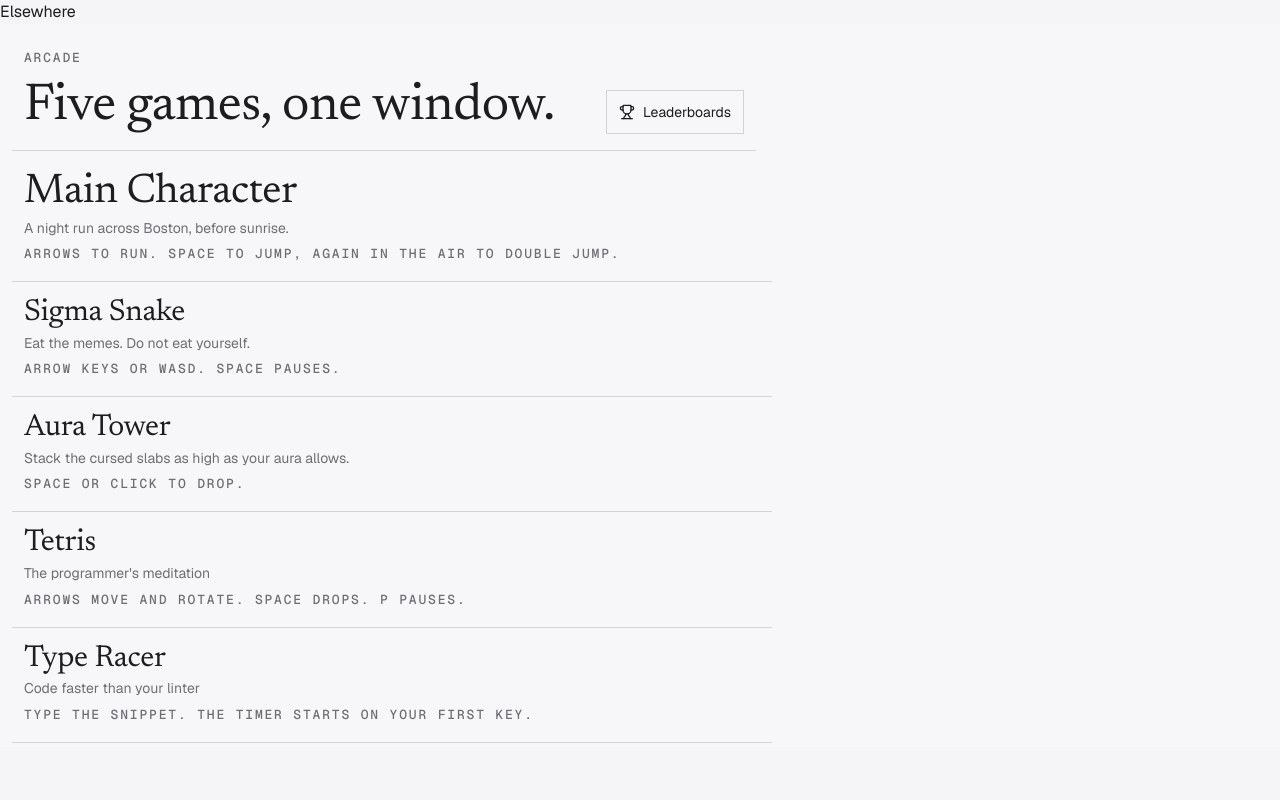
Test: Aura Tower: start screen › shows the keyboard hint on desktop
The width and height of the screenshot is (1280, 800).
Click the text "Aura Tower".
click(97, 428)  # box x1=24 y1=413 x2=170 y2=443
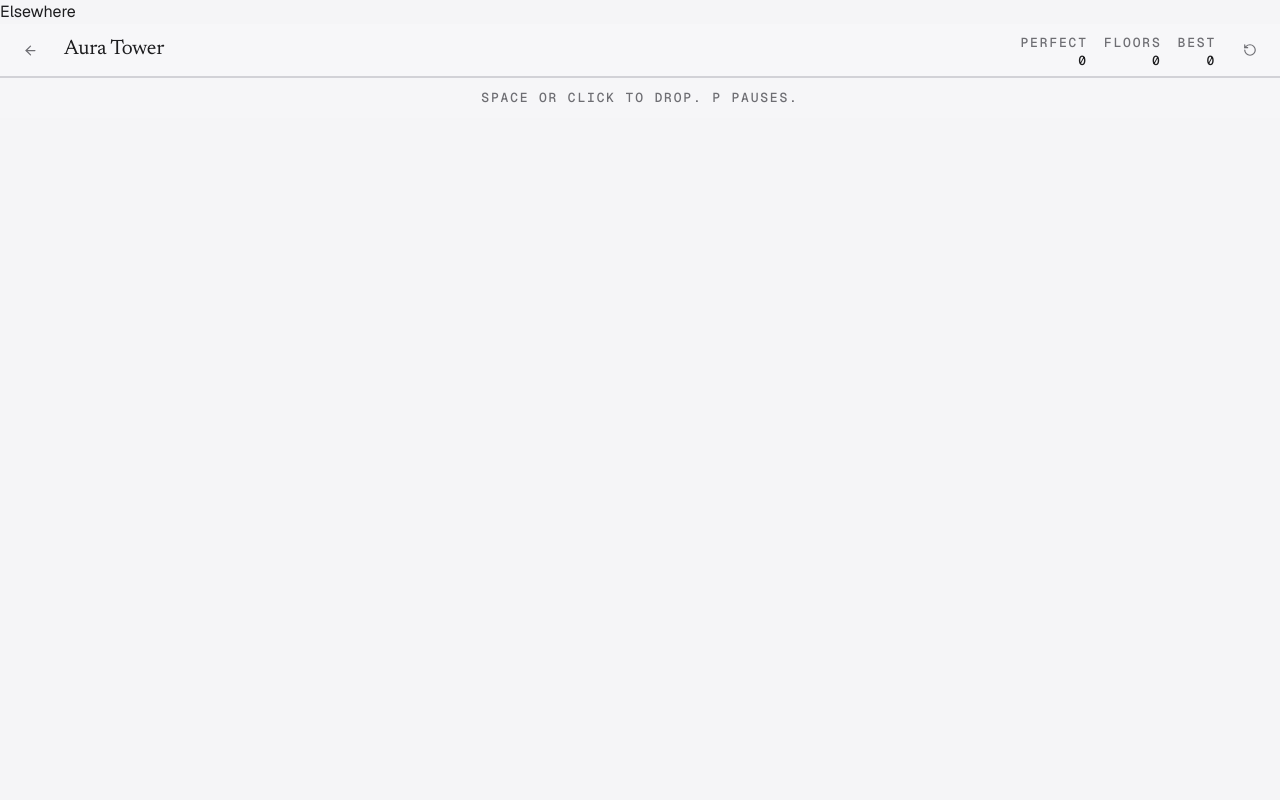
Check: the text "Space or click to drop. P pauses." is shown, box x1=481 y1=88 x2=799 y2=108
